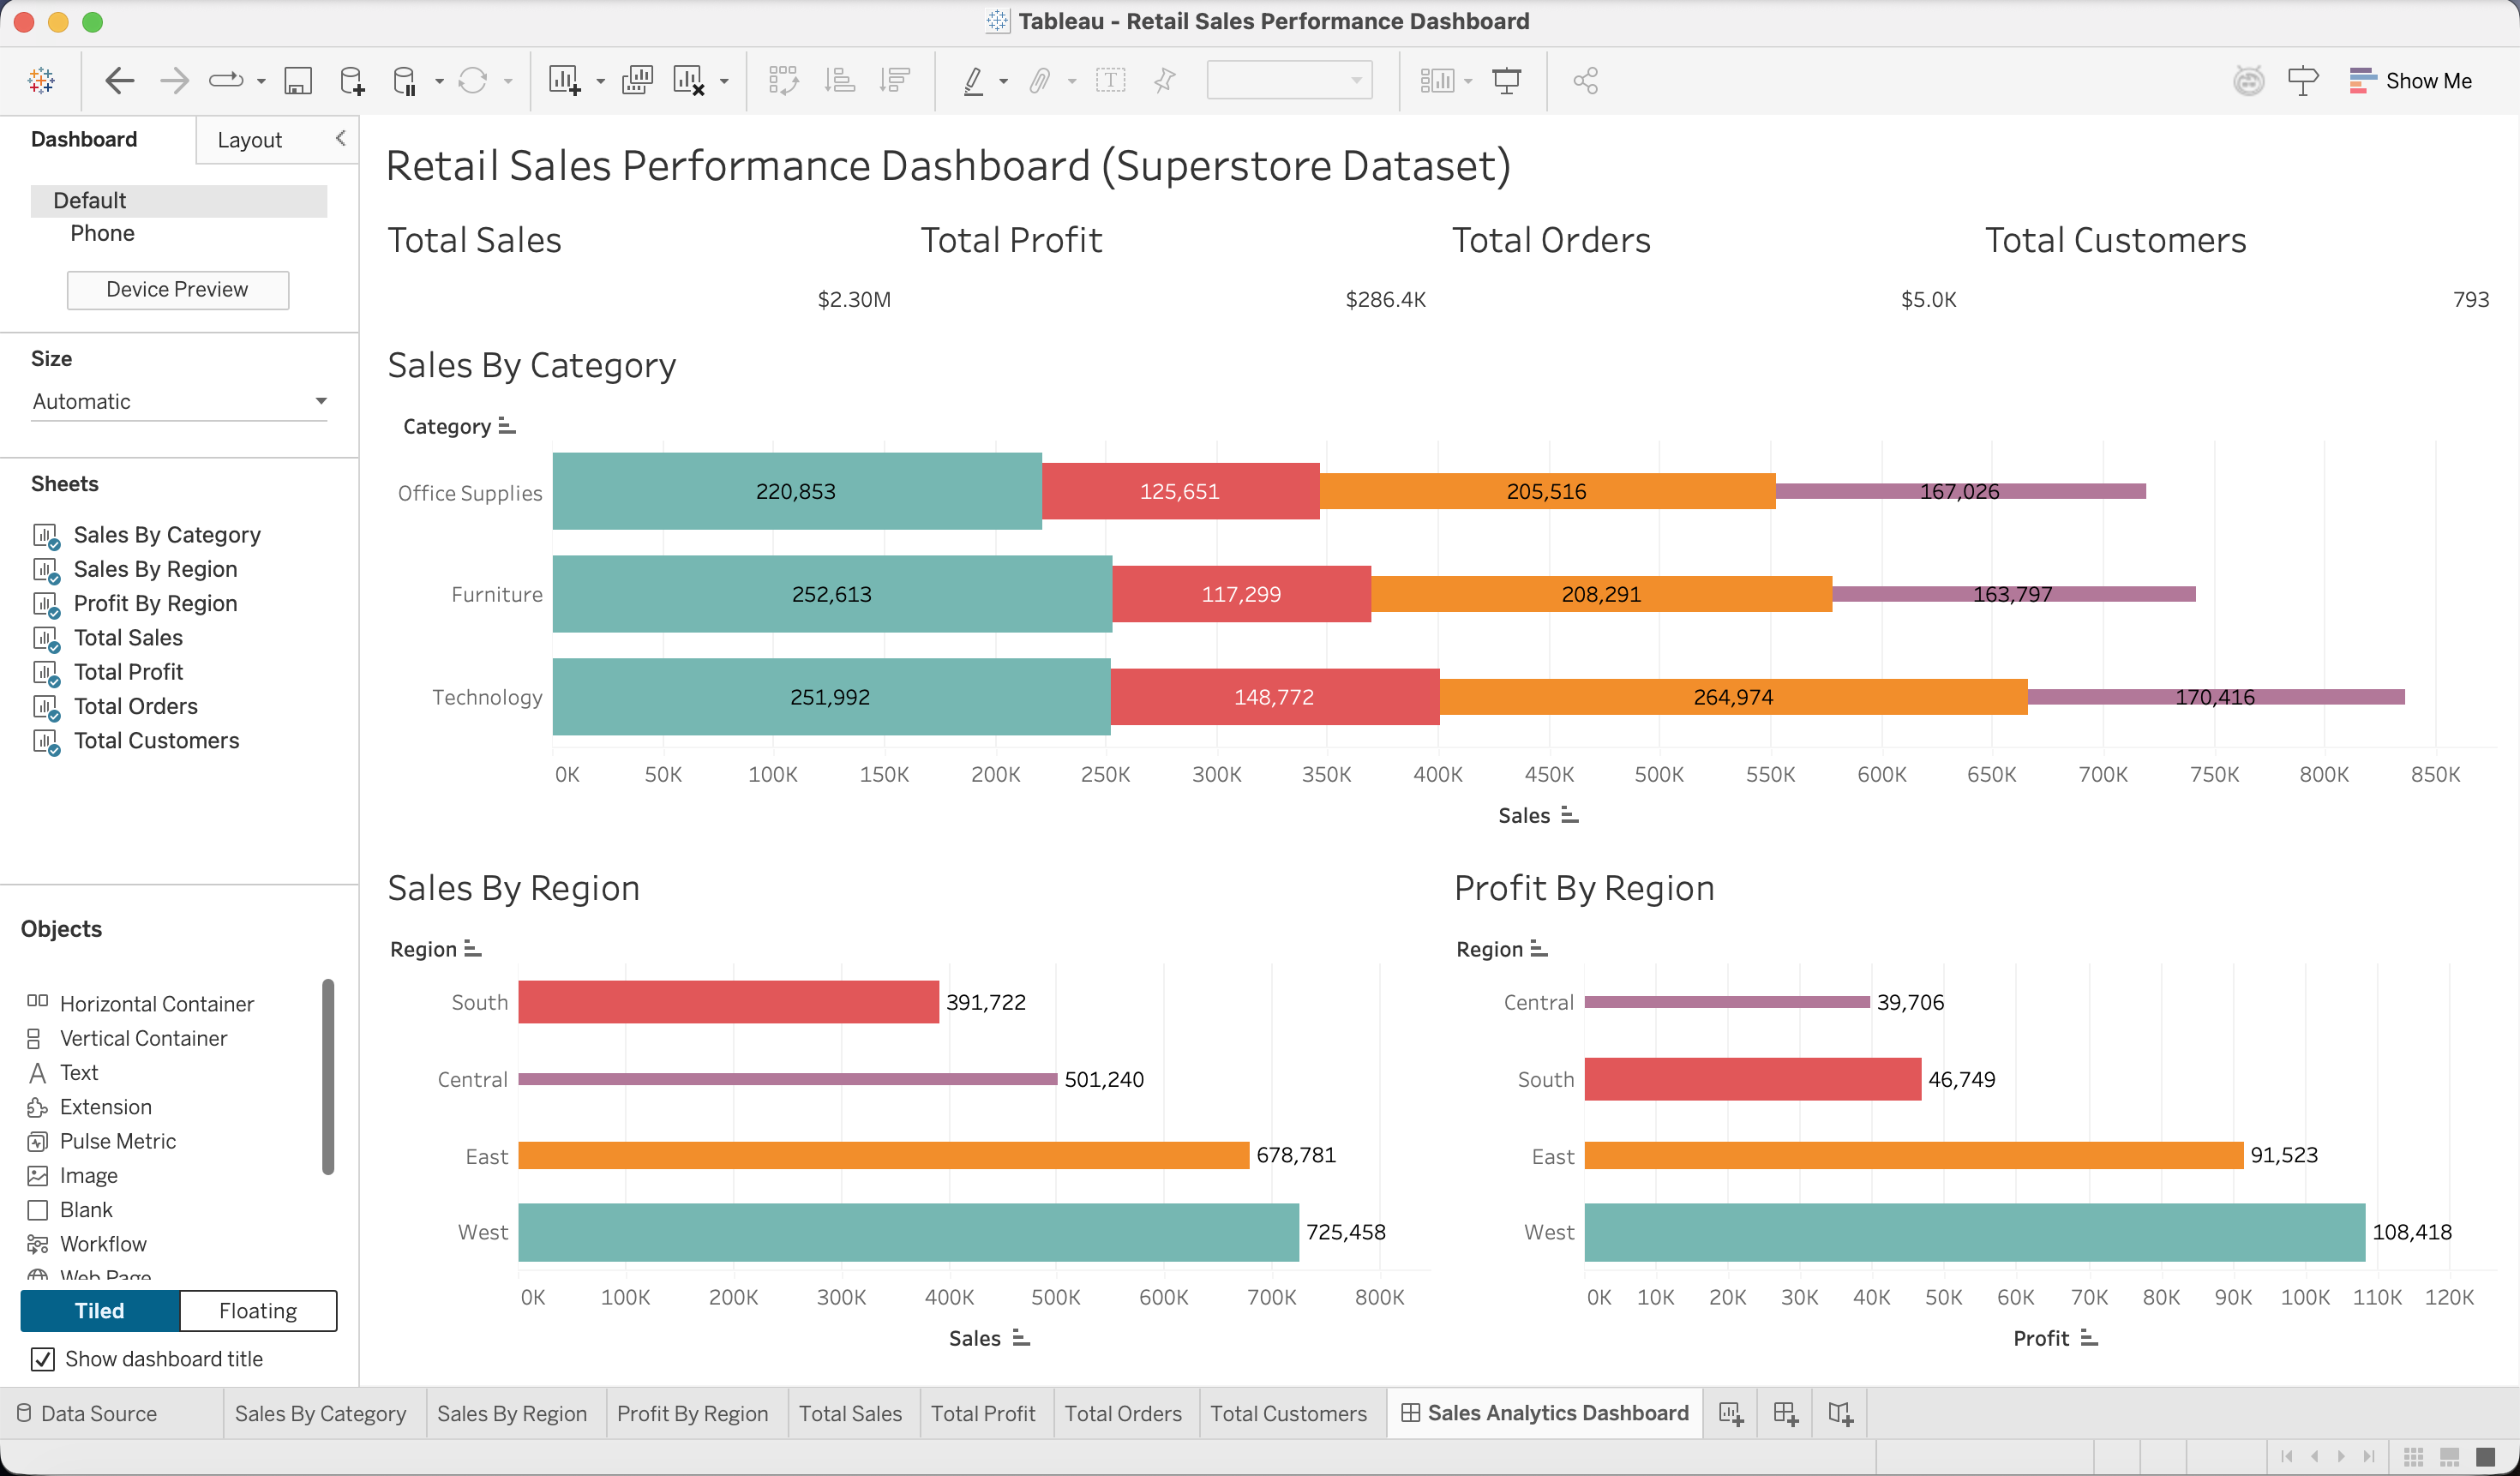

The dashboard page shown, as its layout file describes it:
{"tool":"tableau","page":{"name":"Sales Analytics Dashboard","canvas":[1000,1000],"units":"permille","ordinal":0},"visuals":[{"type":"title","box":[6.4,10.8,987.3,56.7]},{"type":"worksheet","title":"Total Sales","mark":"Automatic","box":[6.4,67.5,246.8,98.5]},{"type":"worksheet","title":"Total Profit","mark":"Automatic","box":[253.2,67.5,246.8,98.5]},{"type":"worksheet","title":"Total Orders","mark":"Automatic","box":[500,67.5,246.8,98.5]},{"type":"worksheet","title":"Total Customers","mark":"Automatic","box":[746.8,67.5,246.8,98.5]},{"type":"worksheet","title":"Sales By Category","mark":"Automatic","rows":["category"],"cols":["sales"],"box":[6.4,166,987.3,411.4]},{"type":"worksheet","title":"Sales By Region","mark":"Automatic","rows":["region"],"cols":["sales"],"box":[6.4,577.4,493.7,411.9]},{"type":"worksheet","title":"Profit By Region","mark":"Automatic","rows":["region"],"cols":["profit"],"box":[500,577.4,493.7,411.9]}]}

Visuals, with their boxes on the dashboard's canvas, which has no fixed pixel size, in thousandths of its width and height (x1, y1, x2, y2). These are canvas units, not pixel positions in the 2520x1476 screenshot, which may show the page scaled, cropped or inside an application window:
title: crop(6, 11, 994, 68)
"Total Sales" worksheet: crop(6, 68, 253, 166)
"Total Profit" worksheet: crop(253, 68, 500, 166)
"Total Orders" worksheet: crop(500, 68, 747, 166)
"Total Customers" worksheet: crop(747, 68, 994, 166)
"Sales By Category" worksheet: crop(6, 166, 994, 577)
"Sales By Region" worksheet: crop(6, 577, 500, 989)
"Profit By Region" worksheet: crop(500, 577, 994, 989)
